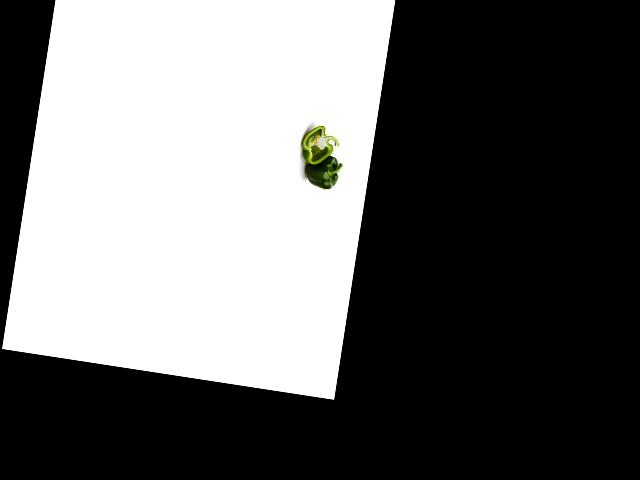bell_pepper: (299, 121, 343, 169)
